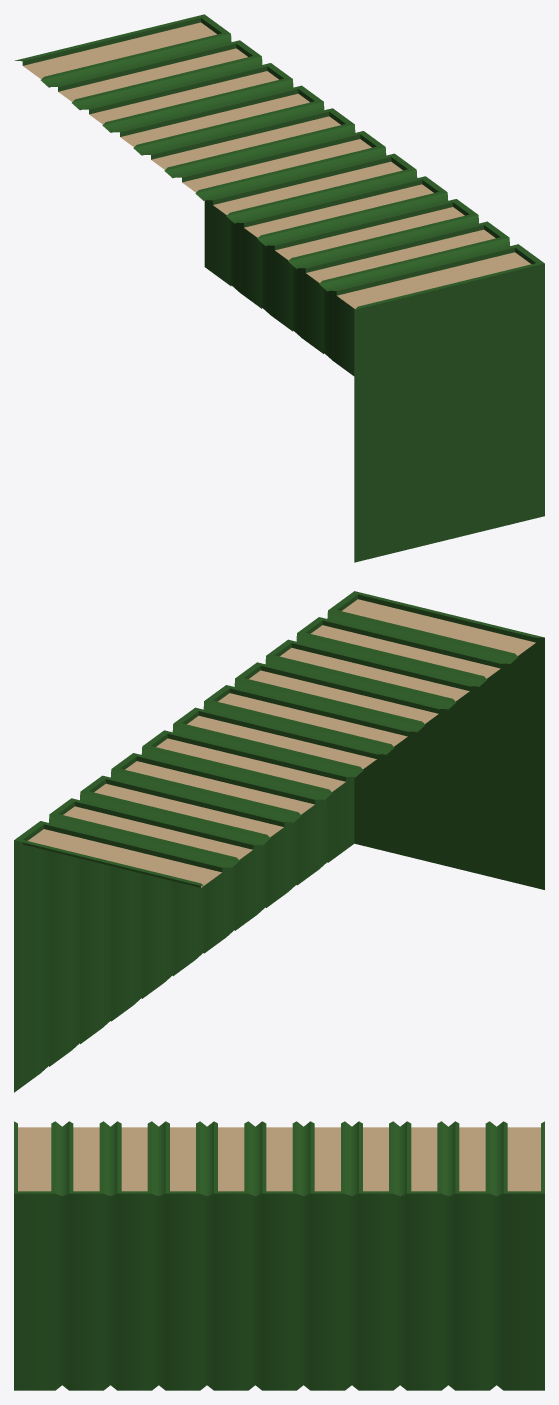
Rendered from HQ_Books01.fbx.
The picture shows the model from 3 angles, top to bottom: view 1: azimuth 30°, elevation 25°; view 2: azimuth 150°, elevation 25°; view 3: azimuth 270°, elevation 25°; orthographic projection. The views are drawn at different scales.
Parts seen in each view (by area): view 1: HQ_Books01; view 2: HQ_Books01; view 3: HQ_Books01.
Boxes of the visible parts, x1,y1,x2,y2 form: HQ_Books01: (14,14,544,562); HQ_Books01: (14,591,544,1092); HQ_Books01: (14,1121,544,1390).
Size of the model in its own units: 0.8729 by 1.11 by 2.7.
